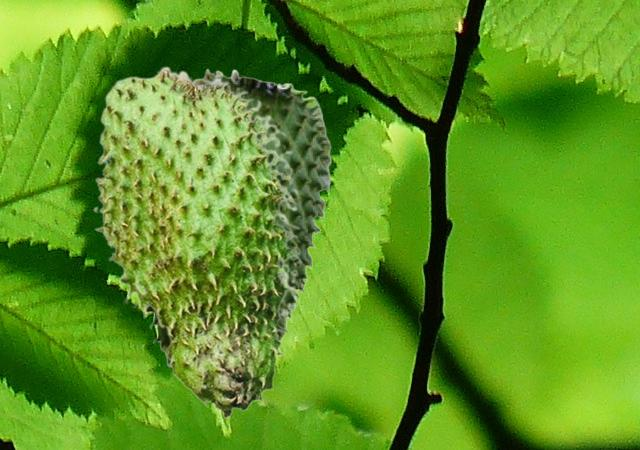guyabano: (92, 65, 303, 418), (148, 68, 331, 368)
